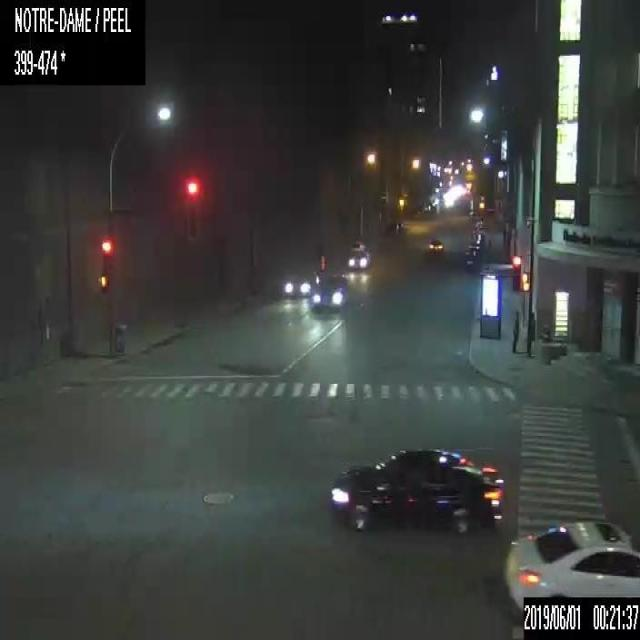construction: (318, 255, 326, 272)
pedestrian: (511, 311, 519, 353)
vehicle: (326, 447, 503, 532), (501, 520, 639, 608), (312, 274, 346, 313), (284, 269, 318, 295), (347, 239, 371, 271), (427, 237, 443, 255), (384, 222, 398, 235), (463, 252, 474, 266), (468, 244, 480, 256)
